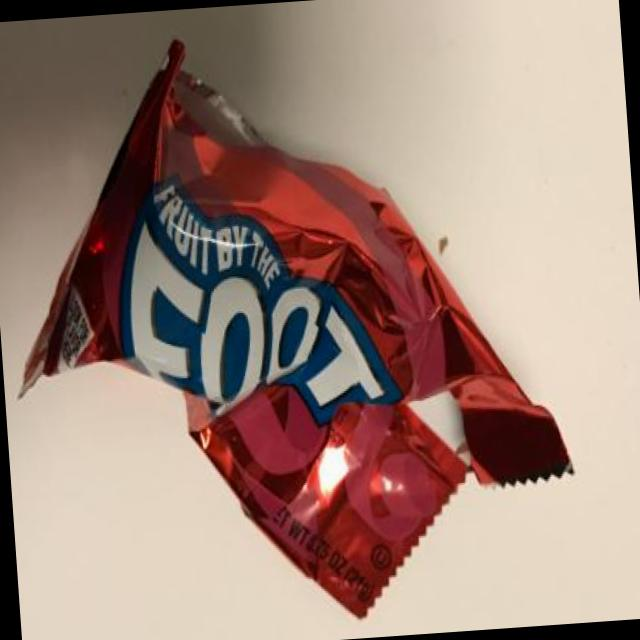giay_goi: (20, 42, 571, 618)
